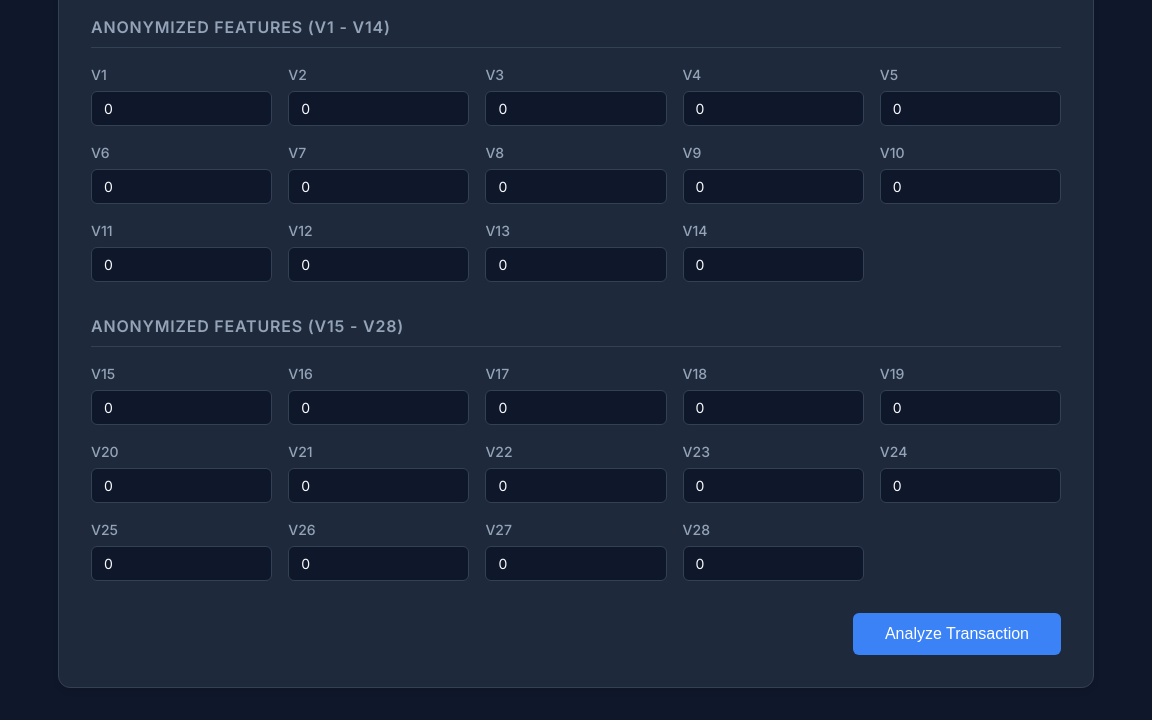
Scenario: Fraud Detection Dashboard › submits form and displays legitimate result correctly
The width and height of the screenshot is (1152, 720).
(page scrolled)
What coordinates should you click on to do the following:
click the button "Analyze Transaction"
I would click on:
 (957, 634)
Its box is [853,613,1061,655].
(page scrolled)
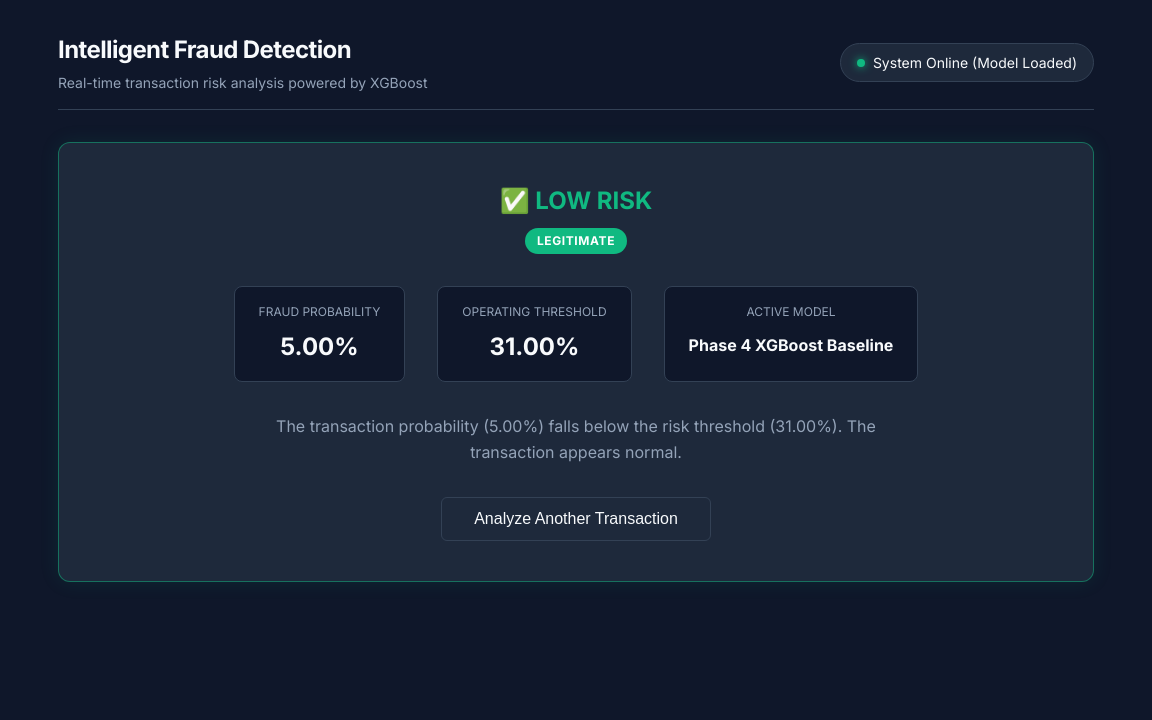
Now the heading "✅ LOW RISK" is shown, box [500,186,652,215]
Now the text "LEGITIMATE" is shown, box [525,228,627,254]
Now the text "5.00%" is shown, box [280,332,359,361]
